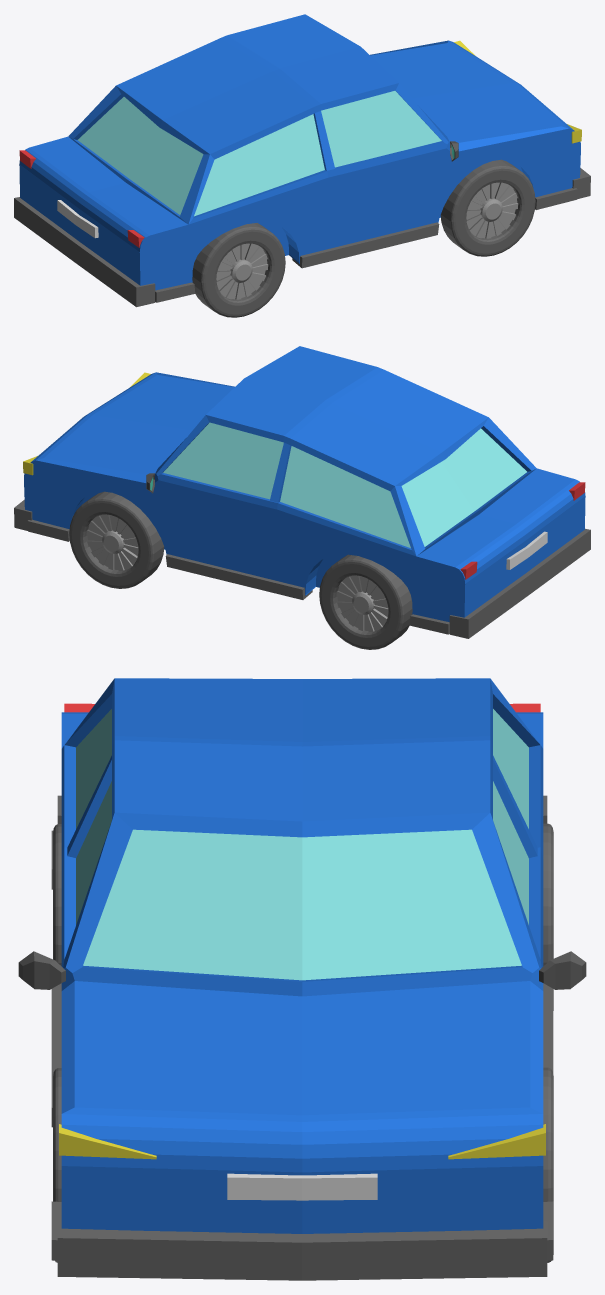
File: bluecar.fbx
The picture shows the model from 3 angles, top to bottom: view 1: azimuth 30°, elevation 25°; view 2: azimuth 150°, elevation 25°; view 3: azimuth 270°, elevation 25°; orthographic projection. The views are drawn at different scales.
Parts seen in each view (by area): view 1: bluecarmain, bluecarfrontleftwhell, bluecarbackleftwhell; view 2: bluecarmain, bluecarfrontrightwhell, bluecarrightbackwhell; view 3: bluecarmain, bluecarrightbackwhell, bluecarfrontrightwhell, bluecarbackleftwhell, bluecarfrontleftwhell.
Boxes of the visible parts, bbox=[...] form: bluecarmain: bbox=[14, 14, 590, 307]; bluecarfrontleftwhell: bbox=[440, 159, 535, 256]; bluecarbackleftwhell: bbox=[192, 223, 285, 317]; bluecarmain: bbox=[14, 346, 590, 638]; bluecarfrontrightwhell: bbox=[69, 491, 164, 588]; bluecarrightbackwhell: bbox=[319, 554, 412, 649]; bluecarmain: bbox=[18, 678, 586, 1280]; bluecarrightbackwhell: bbox=[543, 823, 553, 1010]; bluecarfrontrightwhell: bbox=[543, 1067, 553, 1262]; bluecarbackleftwhell: bbox=[53, 824, 61, 965]; bluecarfrontleftwhell: bbox=[53, 1068, 61, 1262].
Bounding box in the file's own units: 182 × 68.97 × 97.52.
